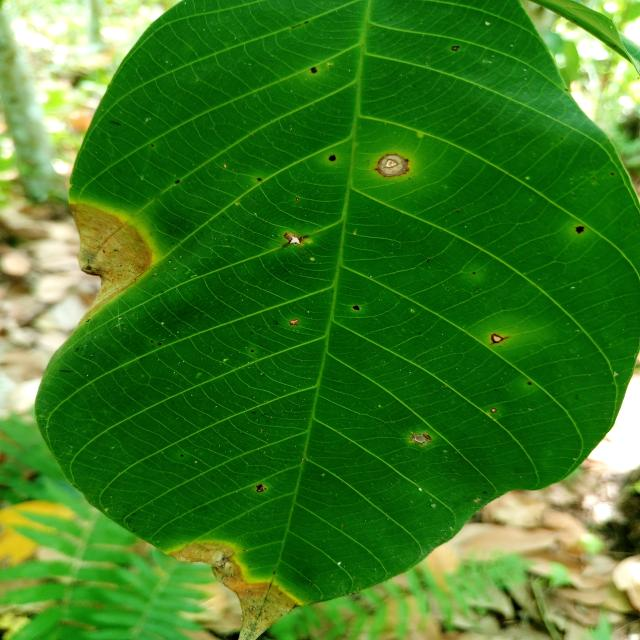Colletotrichum: (375, 154, 410, 178), (491, 333, 504, 344), (256, 483, 267, 492), (575, 226, 585, 234), (289, 319, 299, 326), (450, 45, 460, 52), (328, 154, 336, 162), (310, 66, 318, 74), (490, 408, 497, 413), (352, 306, 360, 310), (158, 342, 162, 346), (527, 382, 532, 385), (258, 178, 262, 181), (150, 340, 154, 343), (180, 454, 184, 457), (296, 198, 299, 201), (250, 350, 254, 352)
Leaf-Blight: (166, 539, 300, 640), (72, 201, 154, 325)
